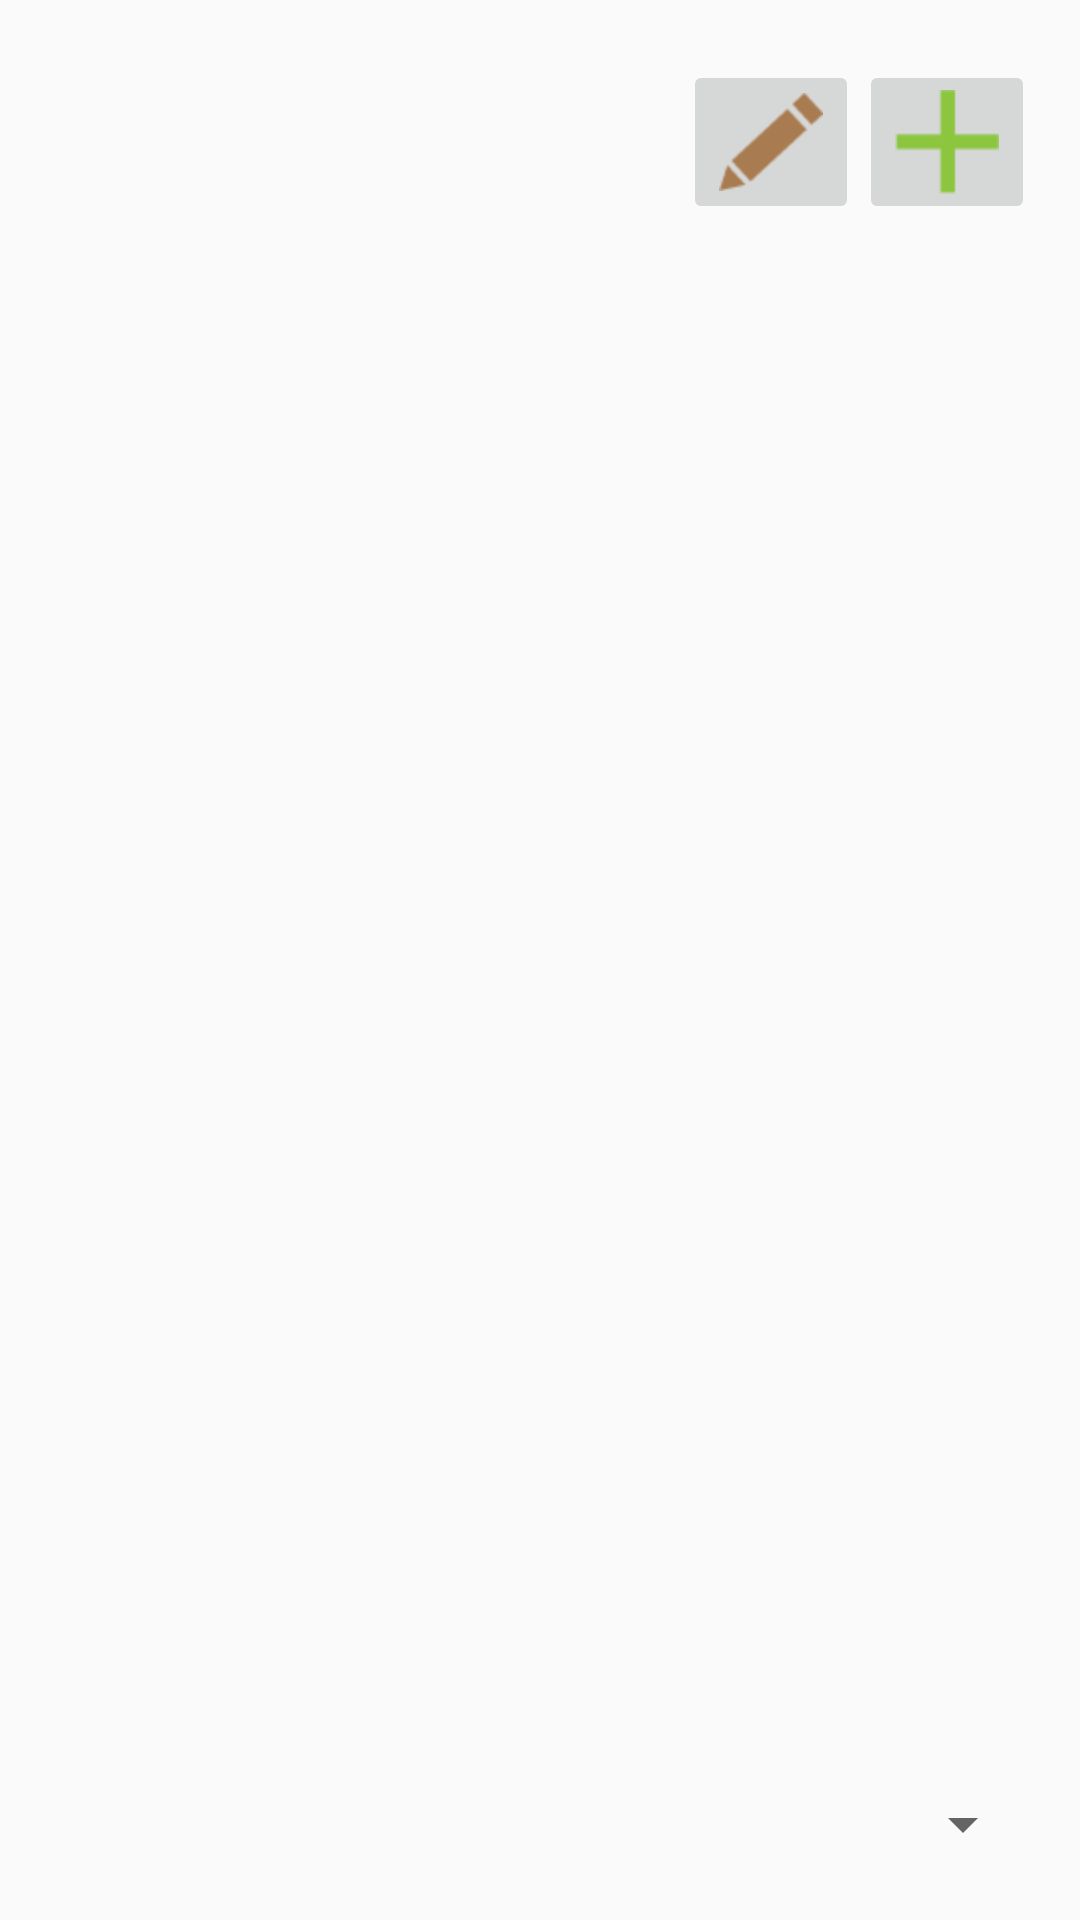

Icon bounding boxes for this 1080 × 1920 phone screenshot, format BBox(x1, y1, x2, y2):
add: BBox(871, 78, 1023, 206)
edit: BBox(695, 78, 847, 206)
